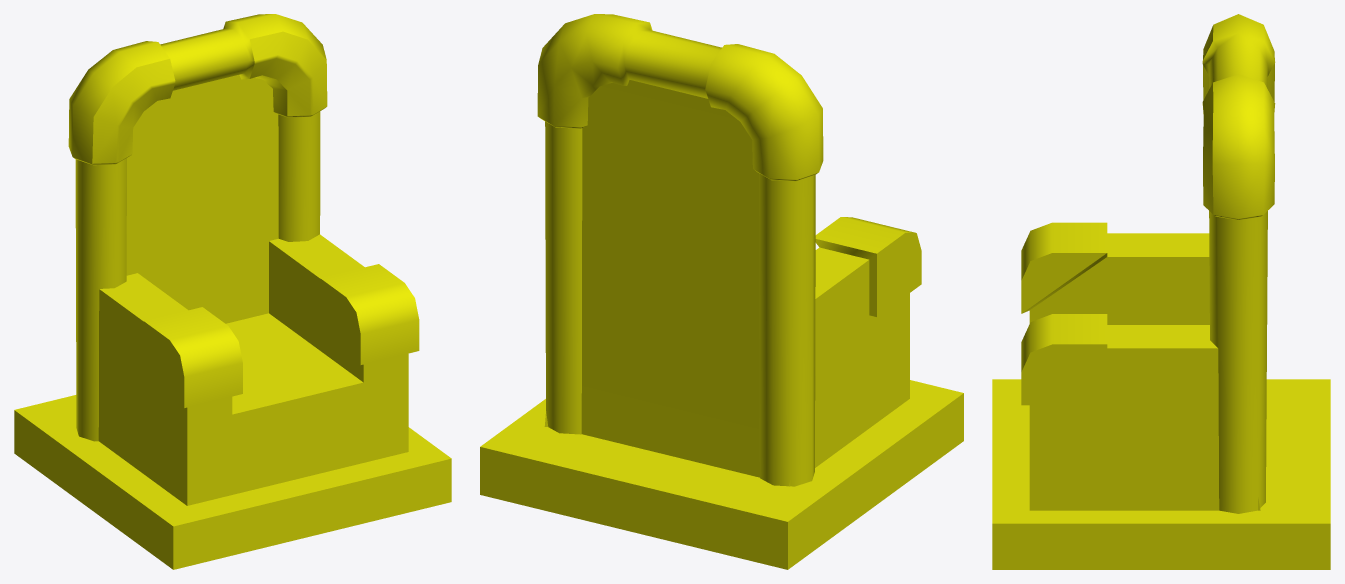
The picture shows the model from 3 angles, left to right: view 1: azimuth 30°, elevation 25°; view 2: azimuth 150°, elevation 25°; view 3: azimuth 270°, elevation 25°; orthographic projection. The views are drawn at different scales.
Visible parts, largest first — view 1: ghe2; view 2: ghe2; view 3: ghe2.
Part boxes in pixels (box(x1,y1,x2,y2)): ghe2: box(14, 14, 451, 569); ghe2: box(480, 14, 963, 569); ghe2: box(992, 14, 1330, 569).
Size of the model in its own units: 4.08 by 5.86 by 4.04.
1 material, 1 textured.
